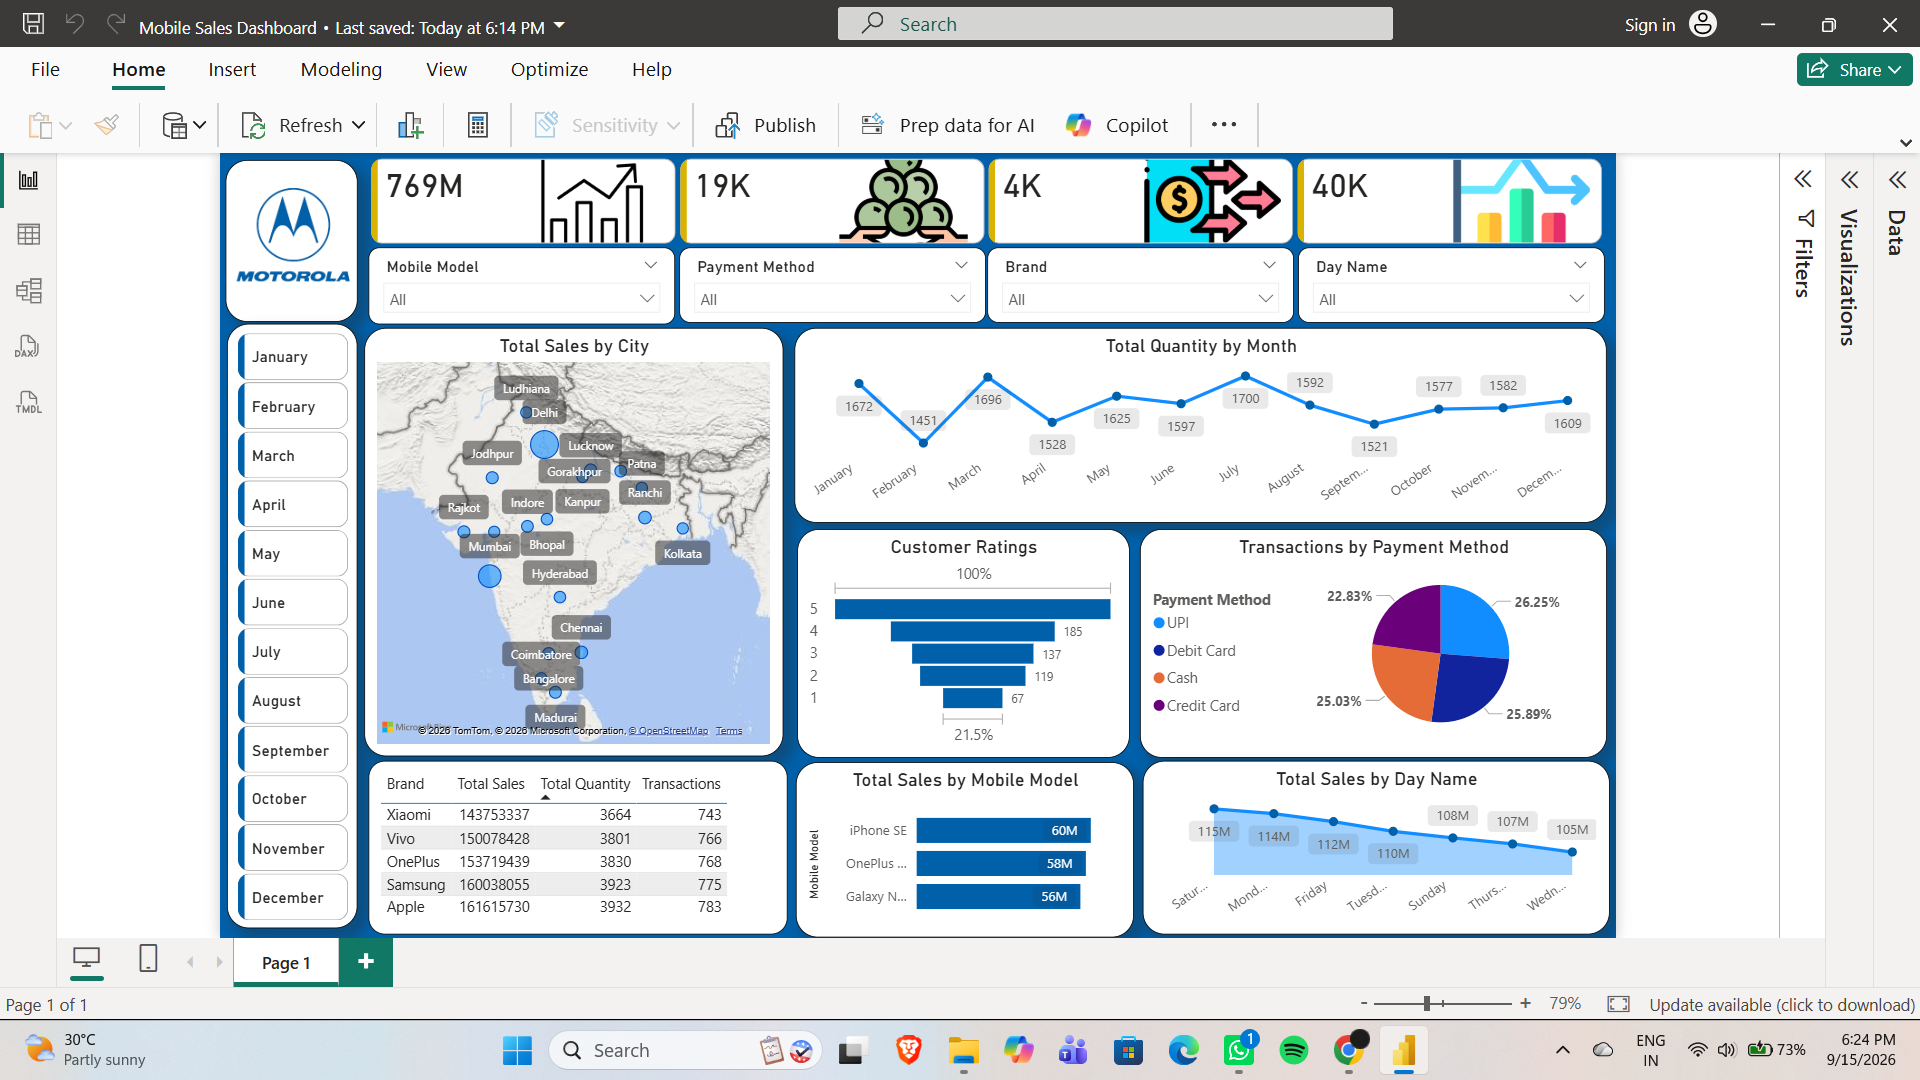

This screenshot's page, from the dashboard's own definition file:
{"tool":"powerbi","page":{"name":"Page 1","canvas":[1280,720],"ordinal":0},"visuals":[{"type":"shape","box":[5.5,6.9,120.8,148.2],"z":0},{"type":"image","box":[9.6,16.5,113.9,116.6],"z":1000},{"type":"shape","box":[6.9,156.4,119.4,554.4],"z":2000},{"type":"advancedSlicerVisual","fields":{"Values":["Sales_Data.Date.Variation.Date Hierarchy.Month"]},"box":[11,160.5,111.1,548.9],"z":3000},{"type":"cardVisual","fields":{"Data":["Sales_Data.Total Sales","Sales_Data.Total Quantity","Sales_Data.Transactions","Sales_Data.Average"]},"box":[134,5.6,1140.1,83.7],"z":4000},{"type":"map","fields":{"Category":["Sales_Data.City"],"Size":["Sales_Data.Total Sales"]},"box":[132.9,160.8,384.1,393.1],"z":5000},{"type":"lineChart","fields":{"Y":["Sales_Data.Total Quantity"],"Category":["Sales_Data.Date.Variation.Date Hierarchy.Month","Sales_Data.Date.Variation.Date Hierarchy.Day"]},"box":[525.9,160.8,744.8,178.7],"z":6000},{"type":"clusteredBarChart","fields":{"Category":["Sales_Data.Mobile Model"],"Y":["Sales_Data.Total Sales"]},"box":[528.3,558.5,310.1,160.5],"z":7000},{"type":"pieChart","fields":{"Category":["Sales_Data.Payment Method"],"Y":["Sales_Data.Transactions"]},"box":[842.5,344.4,428.1,209.9],"z":8000},{"type":"funnel","title":"Customer Ratings","fields":{"Category":["Sales_Data.Customer Ratings"],"Y":["CountNonNull(Sales_Data.Customer Ratings)"]},"box":[529.7,344.4,304.6,209.9],"z":9000},{"type":"areaChart","fields":{"Category":["Sales_Data.Day Name"],"Y":["Sales_Data.Total Sales"]},"box":[845.3,557.1,428.1,159.2],"z":10000},{"type":"tableEx","fields":{"Values":["Sales_Data.Brand","Sales_Data.Total Sales","Sales_Data.Total Quantity","Sales_Data.Transactions"]},"box":[135.8,557.1,384.2,159.2],"z":11000},{"type":"slicer","fields":{"Values":["Sales_Data.Mobile Model"]},"box":[136.2,87.1,281.4,70.3],"z":12000},{"type":"slicer","fields":{"Values":["Sales_Data.Payment Method"]},"box":[421,87.1,281.4,69.2],"z":13000},{"type":"slicer","fields":{"Values":["Sales_Data.Brand"]},"box":[703.5,87.1,281.4,69.2],"z":14000},{"type":"slicer","fields":{"Values":["Sales_Data.Day Name"]},"box":[988.2,87.1,281.4,69.2],"z":15000}]}

Visuals, with their boxes on the page's 1280x720 design canvas (x1, y1, x2, y2). These are canvas units, not pixel positions in the 1920x1080 screenshot, which may show the page scaled, cropped or inside an application window:
shape: detection(6, 7, 126, 155)
image: detection(10, 16, 124, 133)
shape: detection(7, 156, 126, 711)
advancedSlicerVisual - Sales_Data.Date.Variation.Date Hierarchy.Month: detection(11, 160, 122, 709)
cardVisual - Sales_Data.Total Sales x Sales_Data.Total Quantity: detection(134, 6, 1274, 89)
map - Sales_Data.City x Sales_Data.Total Sales: detection(133, 161, 517, 554)
lineChart - Sales_Data.Total Quantity x Sales_Data.Date.Variation.Date Hierarchy.Month: detection(526, 161, 1271, 340)
clusteredBarChart - Sales_Data.Mobile Model x Sales_Data.Total Sales: detection(528, 558, 838, 719)
pieChart - Sales_Data.Payment Method x Sales_Data.Transactions: detection(842, 344, 1271, 554)
"Customer Ratings" funnel: detection(530, 344, 834, 554)
areaChart - Sales_Data.Day Name x Sales_Data.Total Sales: detection(845, 557, 1273, 716)
tableEx - Sales_Data.Brand x Sales_Data.Total Sales: detection(136, 557, 520, 716)
slicer - Sales_Data.Mobile Model: detection(136, 87, 418, 157)
slicer - Sales_Data.Payment Method: detection(421, 87, 702, 156)
slicer - Sales_Data.Brand: detection(704, 87, 985, 156)
slicer - Sales_Data.Day Name: detection(988, 87, 1270, 156)
